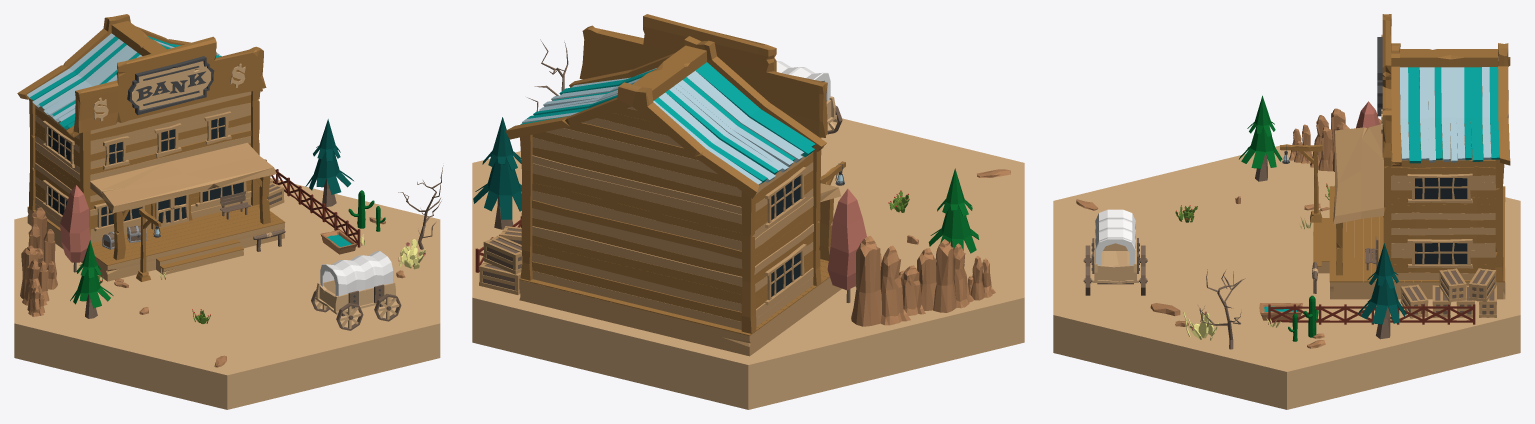
Rendered from Tile_7.fbx.
3 views of the same model, side by side, from view 1: azimuth 30°, elevation 25°; view 2: azimuth 150°, elevation 25°; view 3: azimuth 270°, elevation 25° (orthographic). The views are drawn at different scales.
Parts seen in each view (by area): view 1: Tile_7_Base, Tile_7_Bank_Building, Tile_7, Tile_7_Platform, Tile_7_Cart, Tile_7_signboard_Bank, Tile_7_Fence, Tile_7_Street_light, Tile_7_drinker, Tile_7_Bunch; view 2: Tile_7_Bank_Building, Tile_7_Base, Tile_7, Tile_7_Platform, Tile_7_Cart; view 3: Tile_7_Base, Tile_7_Bank_Building, Tile_7, Tile_7_Platform, Tile_7_Cart, Tile_7_Fence, Tile_7_Street_light, Tile_7_drinker, Tile_7_signboard_Bank.
Part boxes in pixels (x1,y1,x2,y2): Tile_7_Base: (14, 178, 440, 409); Tile_7_Bank_Building: (17, 14, 276, 260); Tile_7: (20, 63, 443, 367); Tile_7_Platform: (27, 204, 285, 281); Tile_7_Cart: (311, 251, 401, 330); Tile_7_signboard_Bank: (127, 56, 214, 115); Tile_7_Fence: (271, 169, 360, 247); Tile_7_Street_light: (136, 208, 161, 281); Tile_7_drinker: (320, 229, 357, 254); Tile_7_Bunch: (220, 191, 250, 219); Tile_7_Bank_Building: (505, 14, 840, 333); Tile_7_Base: (472, 118, 1024, 409); Tile_7: (473, 39, 1010, 326); Tile_7_Platform: (519, 259, 841, 356); Tile_7_Cart: (776, 61, 842, 134); Tile_7_Base: (1053, 144, 1520, 409); Tile_7_Bank_Building: (1333, 14, 1510, 281); Tile_7: (1076, 34, 1496, 349); Tile_7_Platform: (1313, 186, 1505, 299); Tile_7_Cart: (1083, 209, 1147, 295); Tile_7_Fence: (1268, 304, 1475, 324); Tile_7_Street_light: (1280, 144, 1322, 222); Tile_7_drinker: (1259, 303, 1302, 320); Tile_7_signboard_Bank: (1377, 37, 1382, 116).
Bounding box in the file's own units: 2318 × 2007 × 1177.
